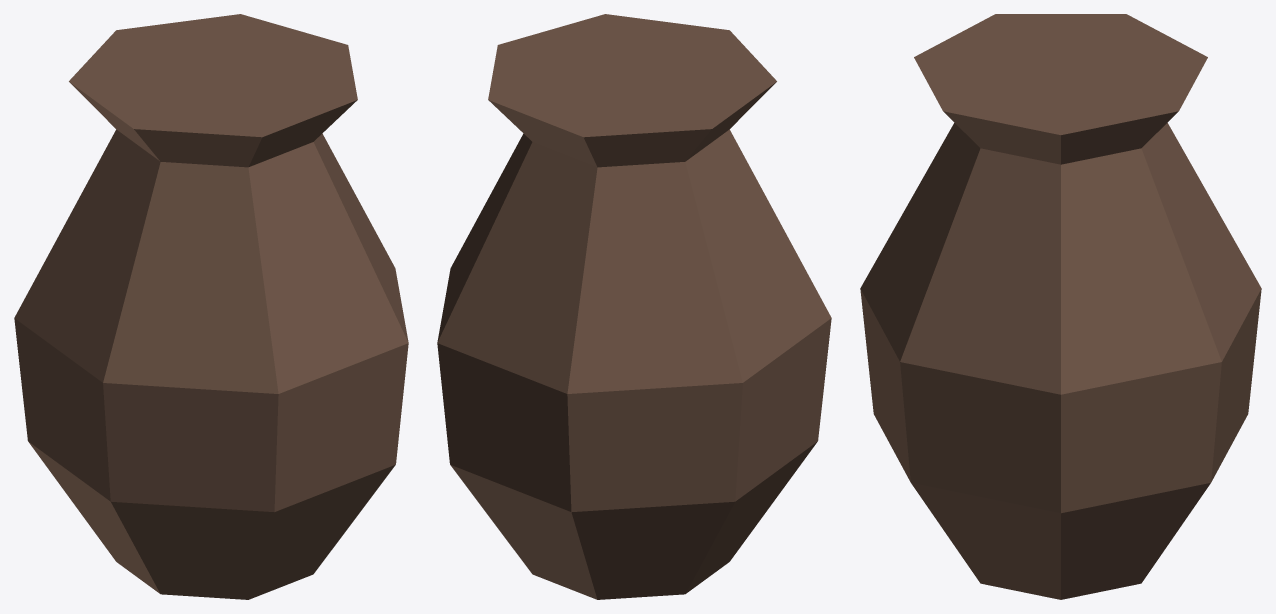
File: urn_small.fbx
The picture shows the model from 3 angles, left to right: view 1: azimuth 30°, elevation 25°; view 2: azimuth 150°, elevation 25°; view 3: azimuth 270°, elevation 25°; orthographic projection.
Visible parts, largest first — view 1: urn_small; view 2: urn_small; view 3: urn_small.
Boxes of the visible parts, x1,y1,x2,y2 form: urn_small: [14, 14, 408, 599]; urn_small: [437, 14, 831, 599]; urn_small: [860, 14, 1261, 599].
Bounding box in the file's own units: 0.5703 × 0.78 × 0.585.
